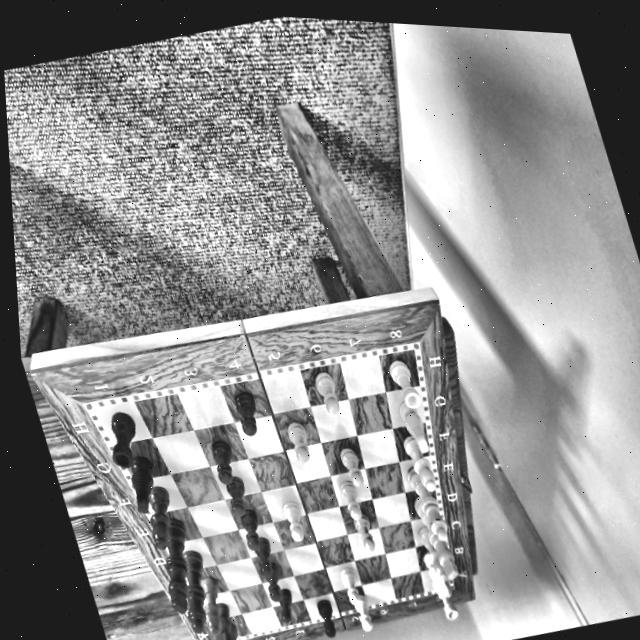black-bishop: (135, 483, 185, 554), (191, 571, 236, 637)
black-king: (141, 512, 213, 619)
black-knight: (118, 453, 169, 519), (201, 599, 244, 640)
black-pawn: (227, 382, 271, 441), (204, 435, 245, 488), (234, 504, 272, 555), (219, 472, 257, 521), (256, 559, 291, 607), (311, 593, 344, 640), (249, 533, 282, 579), (271, 585, 302, 626)
black-queen: (163, 545, 225, 637)
black-rook: (96, 406, 150, 473), (214, 622, 248, 640)
white-bishop: (396, 427, 443, 498), (415, 523, 450, 585)
white-king: (410, 493, 462, 584)
white-knight: (390, 394, 438, 458), (423, 549, 455, 601)
white-pawn: (307, 364, 347, 420), (278, 493, 313, 545), (282, 415, 317, 466), (335, 440, 370, 490), (349, 506, 382, 555), (335, 562, 369, 608), (349, 589, 380, 635), (337, 476, 367, 522)
white-queen: (402, 459, 456, 546)
white-rook: (382, 353, 428, 416), (431, 578, 462, 623)
